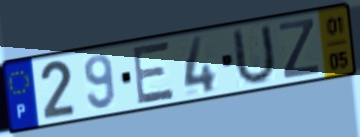2: (41, 57, 80, 124)
4: (181, 34, 221, 96)
9: (83, 53, 117, 111)
E: (132, 39, 177, 108)
U: (232, 21, 278, 89)
Z: (277, 16, 321, 82)
